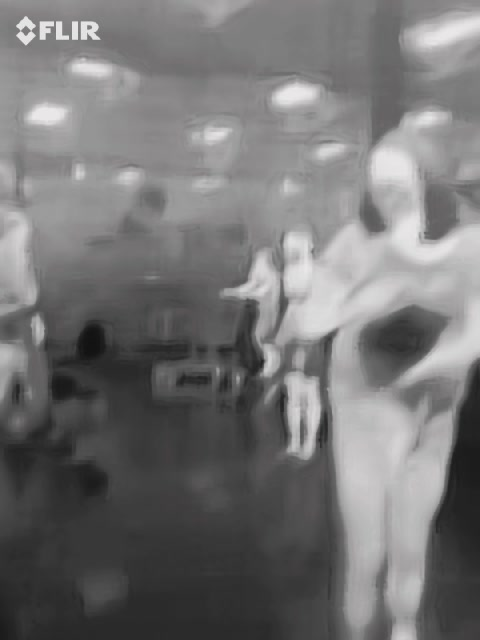head: (365, 124, 444, 228)
